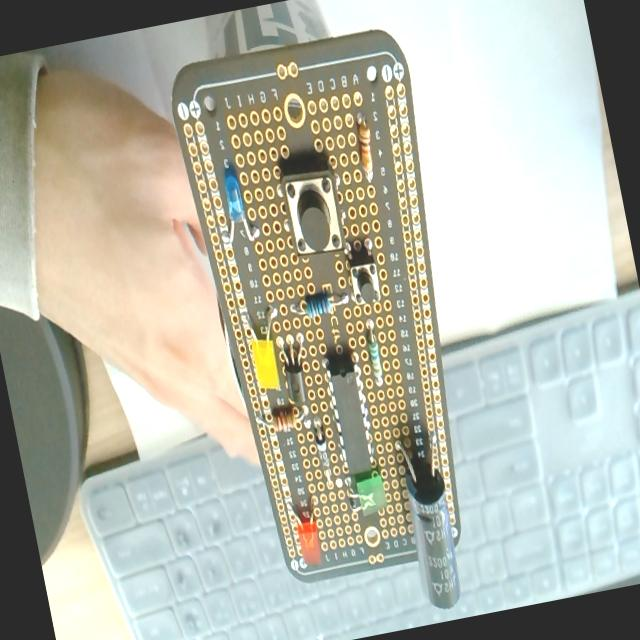Electrolytic capacitor: (391, 432, 468, 608)
IC: (322, 354, 389, 516)
diode: (312, 422, 336, 489)
led: (242, 301, 292, 395), (210, 164, 262, 250), (286, 496, 326, 567), (344, 467, 389, 518)
resistor: (361, 314, 387, 385), (354, 120, 380, 184), (270, 406, 302, 434), (304, 292, 334, 320)
switch: (279, 164, 349, 262), (344, 240, 384, 308)
transistor: (276, 331, 315, 410)
